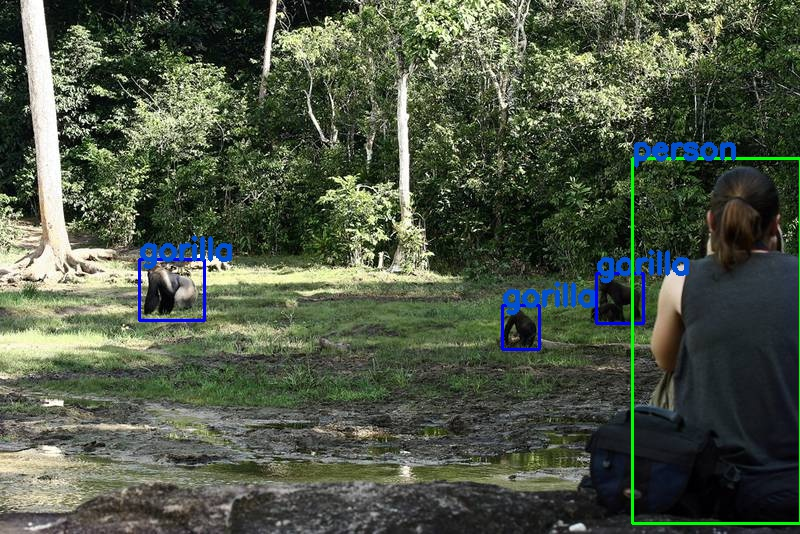gorilla: (139, 259, 204, 320), (596, 272, 643, 322), (502, 305, 539, 349)
person: (632, 157, 800, 522)
